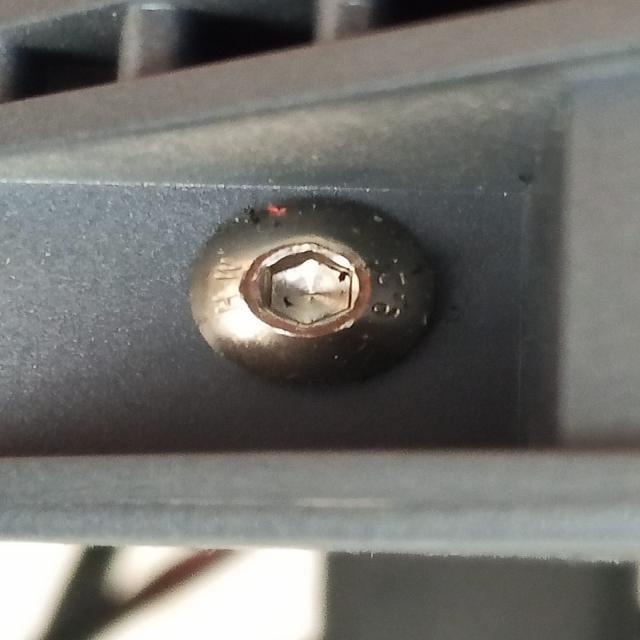allen: (265, 254, 359, 328)
